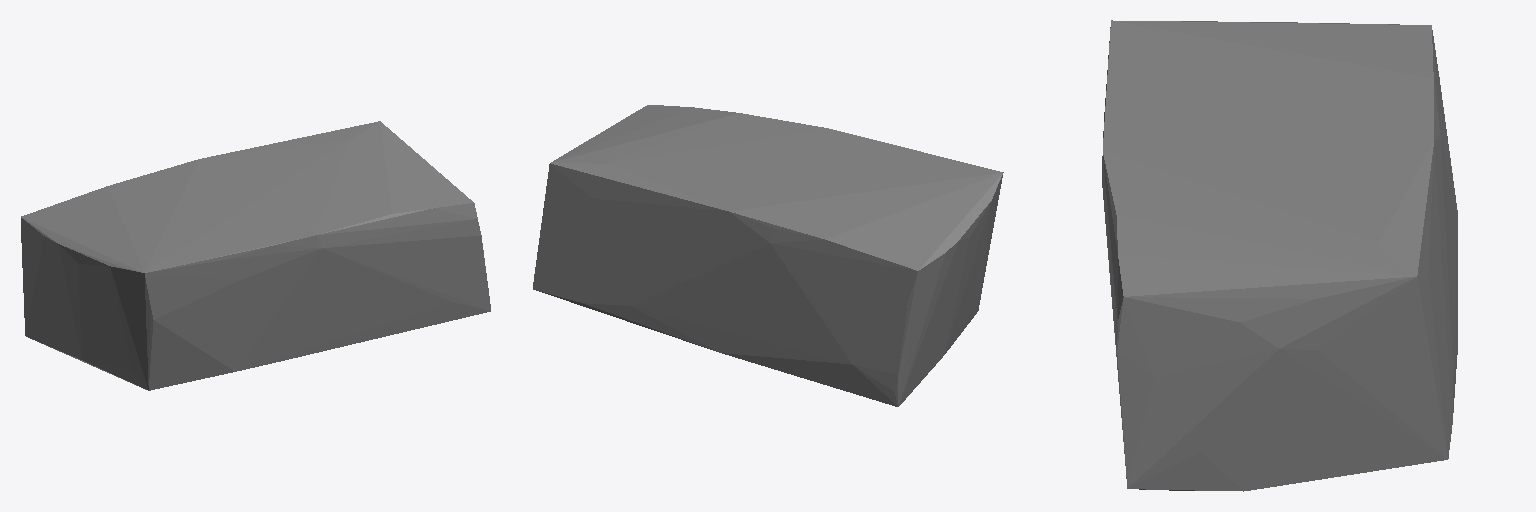
The robot description file, URDF, robot "5_011":
<?xml version="1.0"?>
<robot name="5_011">
  <link name="link">
    <contact>
      <lateral_friction value="0.6"/>
    </contact>
    <inertial>
      <mass value = "0.4654080384159713"/>
      <inertia ixx="0.0001620467582374076" ixy="-1.3828617207171189e-05" ixz="-6.713840239976981e-07" iyy="0.00045310467330970987" iyz="-6.042326928770436e-06" izz="0.0005096870327435602" />
    </inertial>
    <visual name="visual">
      <geometry>
        <mesh filename="5_011.obj"/>
      </geometry>
      <material name="material">
        <color rgba="0.5571265060597774 0.5571265060597774 0.5571265060597774 1.0"/>
      </material>
    </visual>
    <collision name="collision">
      <geometry>
        <mesh filename="5_011.obj"/>
      </geometry>
    </collision>
  </link>
</robot>

--- Facts derived from the render (not from the file) ---
The picture shows the robot from 3 angles, left to right: view 1: azimuth 30°, elevation 25°; view 2: azimuth 150°, elevation 25°; view 3: azimuth 270°, elevation 25°; orthographic projection.
Robot: 5_011 — 1 links, 0 joints (none); root link link; default pose: every joint at zero.
Links seen in each view (by area): view 1: link; view 2: link; view 3: link.
Link boxes in pixels (x1=…): link: x1=21, y1=121, x2=490, y2=390; link: x1=533, y1=105, x2=1003, y2=406; link: x1=1102, y1=20, x2=1457, y2=491.
Size in the robot's own frame: 0.1103 by 0.0581 by 0.0402 metres.
1 mesh visuals loaded from 1 distinct referenced files (1 OBJ).
